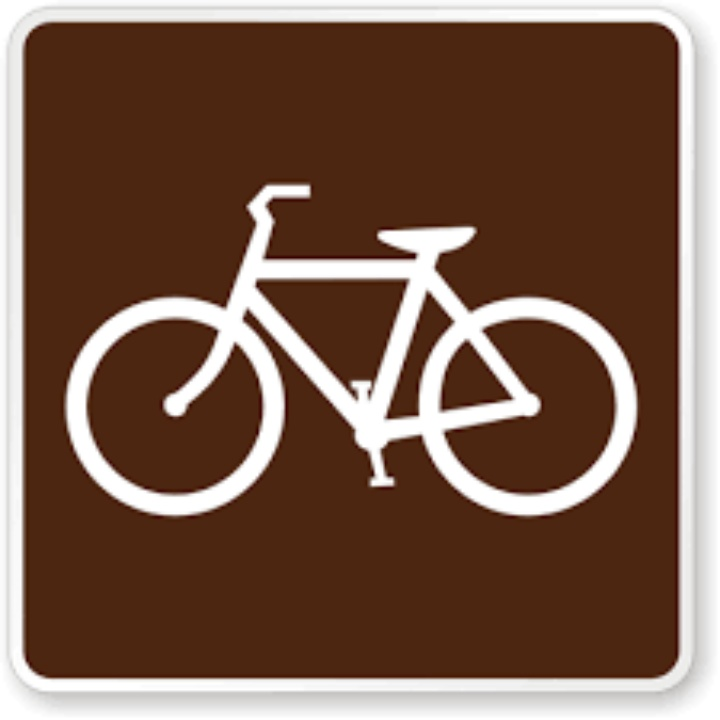bicycle: (61, 79, 637, 655)
